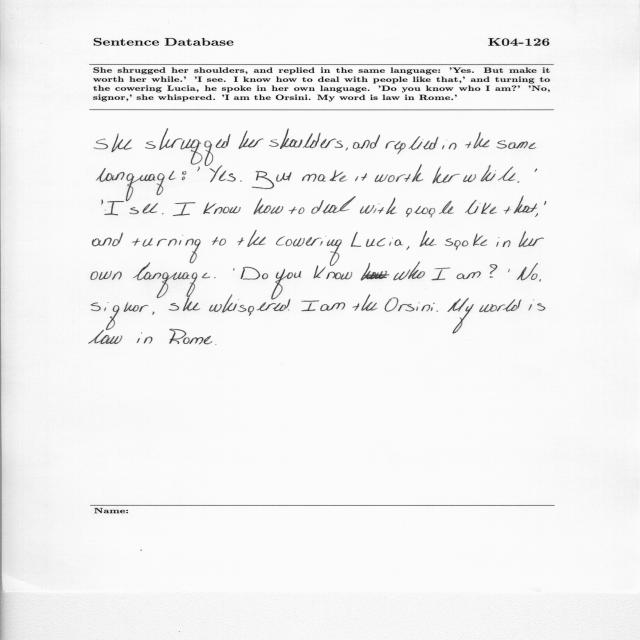word: (145, 129, 231, 166), (133, 262, 210, 298), (96, 168, 176, 201), (276, 236, 342, 266), (132, 235, 201, 263), (209, 294, 291, 316), (91, 302, 149, 330), (269, 129, 343, 149), (314, 263, 390, 281), (447, 298, 474, 334), (386, 136, 439, 154), (463, 165, 516, 182), (272, 269, 302, 299), (375, 165, 424, 182), (406, 201, 454, 218), (311, 196, 356, 214), (351, 232, 403, 247), (385, 297, 435, 312), (94, 134, 132, 153), (252, 171, 292, 189), (445, 233, 487, 250), (360, 198, 396, 215), (504, 196, 538, 214), (393, 262, 425, 280), (479, 299, 522, 312), (302, 170, 347, 182), (254, 198, 284, 215), (170, 329, 204, 344), (432, 166, 460, 184), (237, 230, 266, 247), (238, 131, 264, 149), (89, 330, 122, 344), (209, 165, 236, 182), (183, 284, 200, 311), (203, 202, 241, 214), (465, 200, 497, 214), (465, 132, 490, 149), (353, 294, 378, 311), (93, 233, 123, 247), (519, 231, 544, 247), (353, 135, 380, 149), (497, 140, 537, 149), (517, 263, 538, 280), (241, 267, 268, 280), (129, 203, 158, 214), (173, 202, 195, 216), (104, 201, 124, 215), (91, 271, 122, 280), (420, 231, 437, 247), (432, 268, 451, 281), (320, 302, 345, 311), (529, 299, 546, 311), (456, 271, 481, 279), (137, 333, 152, 344), (496, 237, 511, 247), (212, 237, 226, 246), (302, 303, 316, 312), (442, 143, 457, 150), (289, 207, 304, 214), (490, 264, 497, 278), (355, 173, 367, 181), (169, 303, 179, 311), (204, 336, 212, 344), (531, 273, 537, 280), (182, 171, 186, 180), (301, 300, 319, 302), (345, 147, 348, 151), (197, 167, 200, 171), (535, 213, 538, 217), (407, 246, 410, 250), (535, 168, 537, 172), (544, 201, 546, 205), (153, 311, 155, 315), (517, 181, 520, 183), (508, 269, 510, 272), (539, 279, 541, 282), (102, 200, 103, 205), (240, 180, 242, 182), (436, 310, 438, 312), (234, 268, 235, 271), (162, 213, 164, 214), (214, 277, 216, 278), (288, 310, 290, 311)
